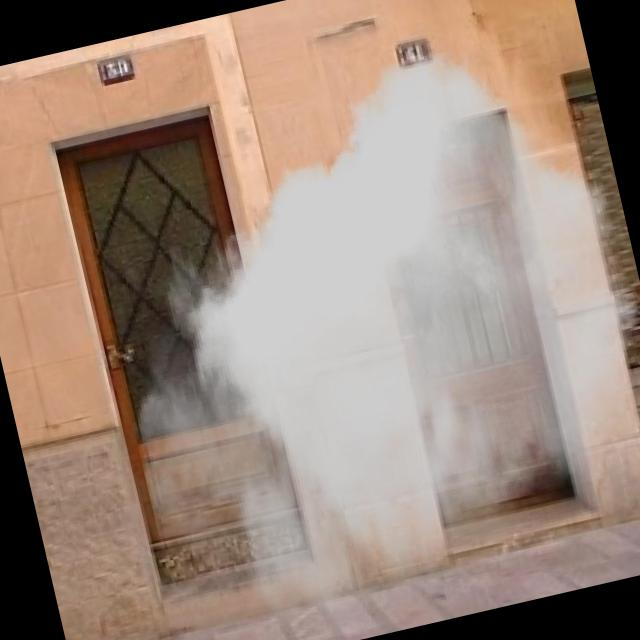Smoke: (68, 21, 640, 640)
